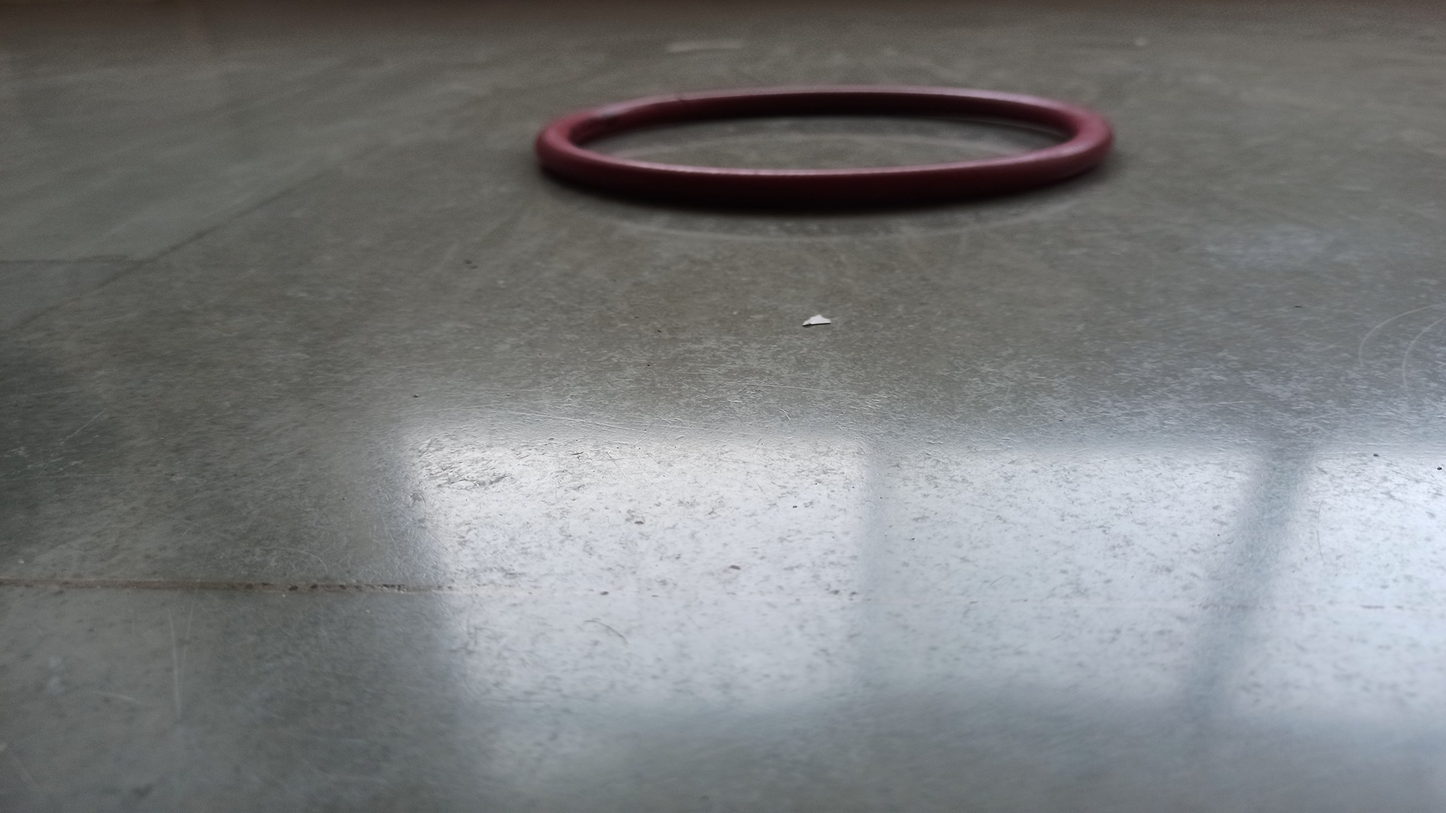Red ring: (541, 84, 1115, 207)
